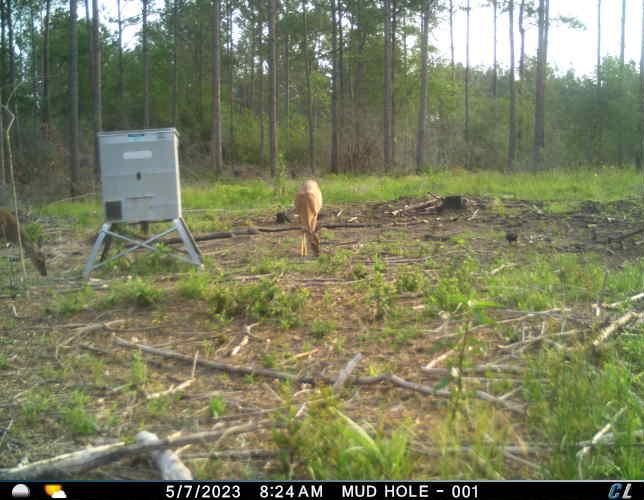Deer: (0, 201, 50, 282), (291, 177, 324, 261)
